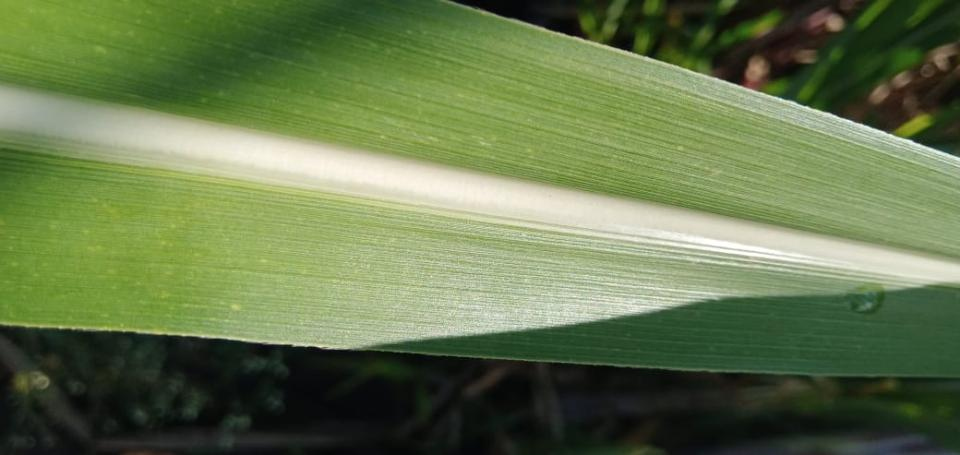Healthy: (0, 0, 959, 377)
